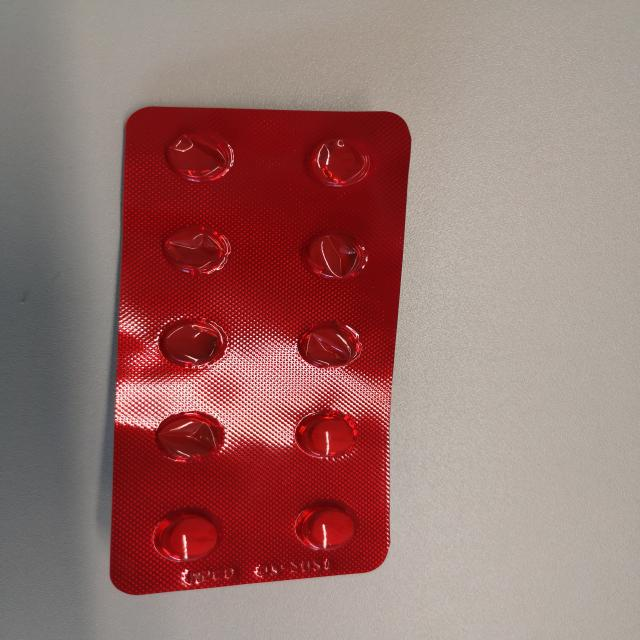Empty: (303, 127, 396, 192), (151, 218, 243, 282), (144, 315, 243, 374), (146, 404, 235, 469), (157, 126, 247, 190), (292, 221, 378, 287), (279, 314, 370, 371)
Pill: (277, 500, 372, 560), (288, 405, 368, 476), (144, 506, 224, 570)
